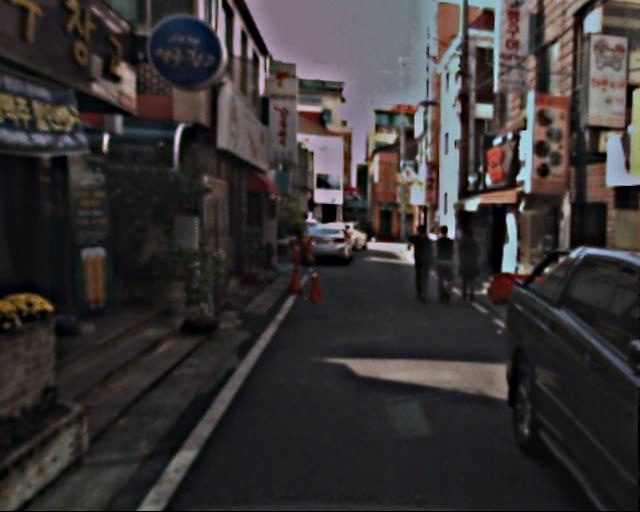person: (428, 222, 462, 305), (452, 224, 484, 303), (407, 229, 438, 304)
